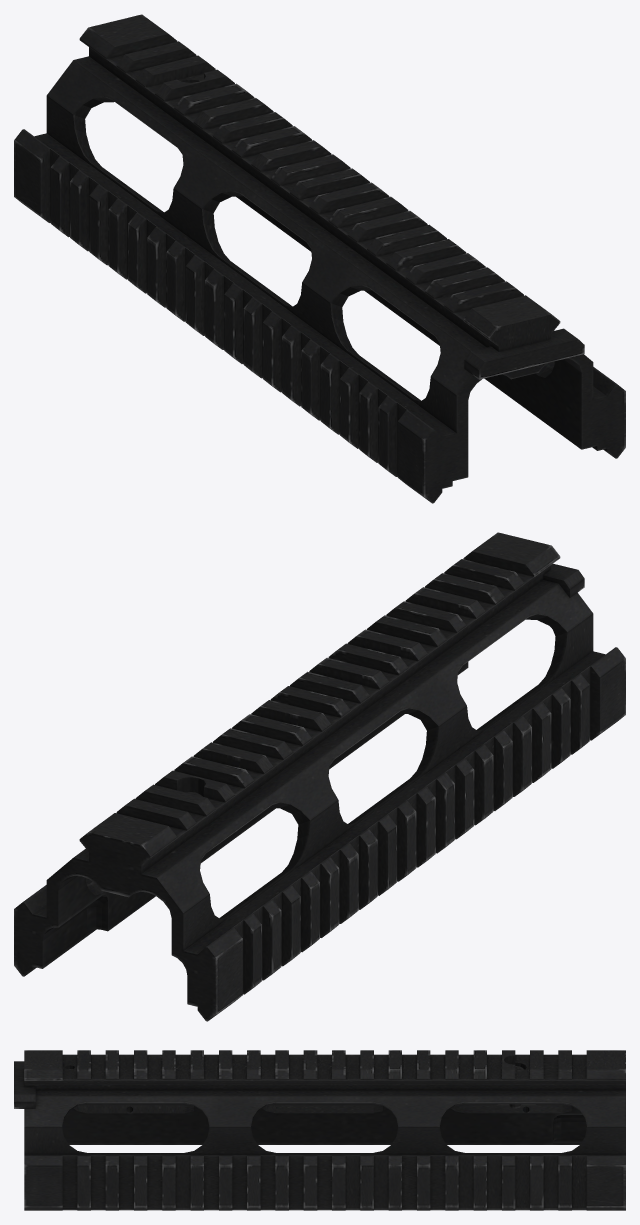
3 views of the same model, one above another, from view 1: azimuth 30°, elevation 25°; view 2: azimuth 150°, elevation 25°; view 3: azimuth 270°, elevation 25° (orthographic). The views are drawn at different scales.
Visible parts, largest first — view 1: TW_674fe57721a9aa6be6045b96_PZ_Import; view 2: TW_674fe57721a9aa6be6045b96_PZ_Import; view 3: TW_674fe57721a9aa6be6045b96_PZ_Import.
Boxes of the visible parts, <box> form: TW_674fe57721a9aa6be6045b96_PZ_Import: <box>14,14,625,503</box>; TW_674fe57721a9aa6be6045b96_PZ_Import: <box>14,532,625,1021</box>; TW_674fe57721a9aa6be6045b96_PZ_Import: <box>14,1050,625,1210</box>.
Bounding box in the file's own units: 0.035 × 0.1251 × 0.0265.
1 material, 1 textured.
